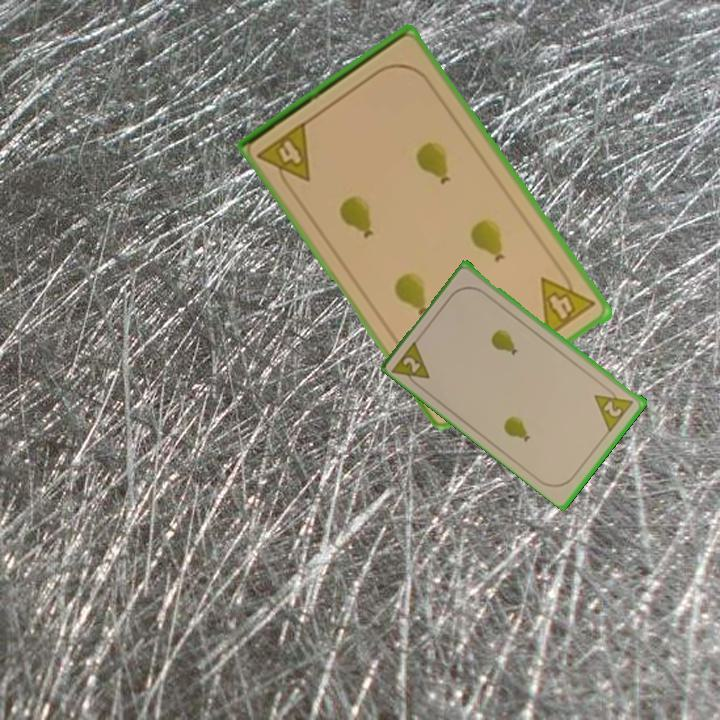2p: (389, 336, 434, 392), (591, 382, 637, 434)
4p: (537, 263, 598, 341), (253, 117, 314, 195)
